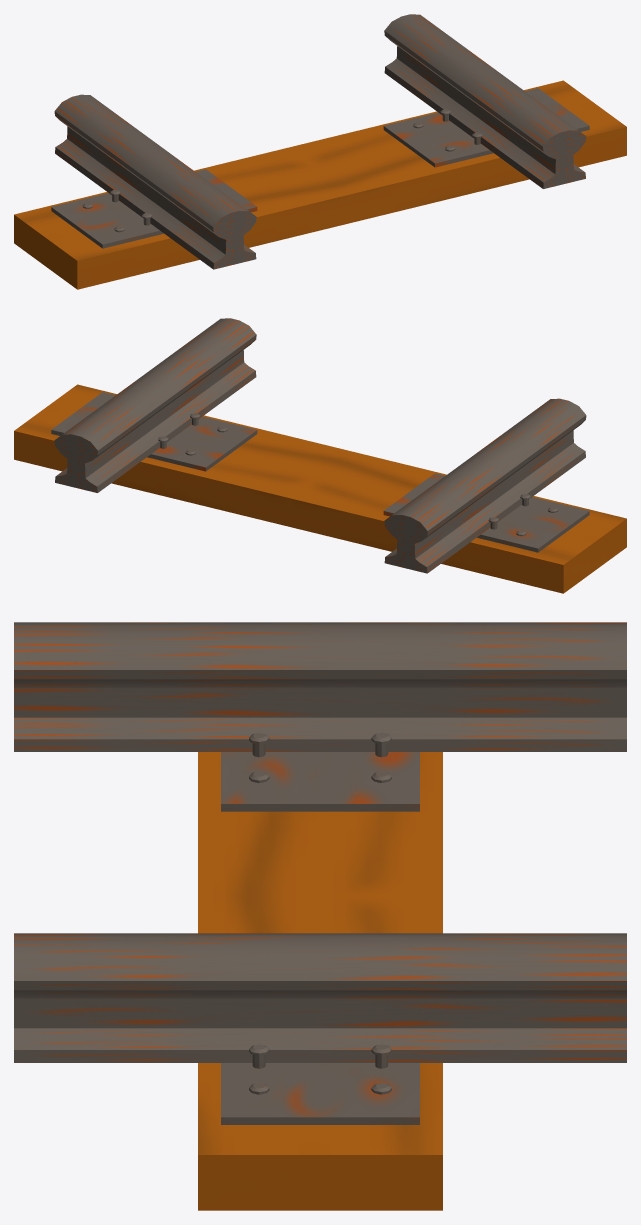
The model's file is trainTrack.obj.
3 views of the same model, one above another, from view 1: azimuth 30°, elevation 25°; view 2: azimuth 150°, elevation 25°; view 3: azimuth 270°, elevation 25° (orthographic). The views are drawn at different scales.
Parts seen in each view (by area): view 1: Cube.001; view 2: Cube.001; view 3: Cube.001.
Part boxes in pixels (x1,y1,x2,y2): Cube.001: (14,14,626,289); Cube.001: (14,318,626,593); Cube.001: (14,622,626,1210).
Bounding box in the file's own units: 2 × 0.2986 × 1.
1 material, 1 textured.
